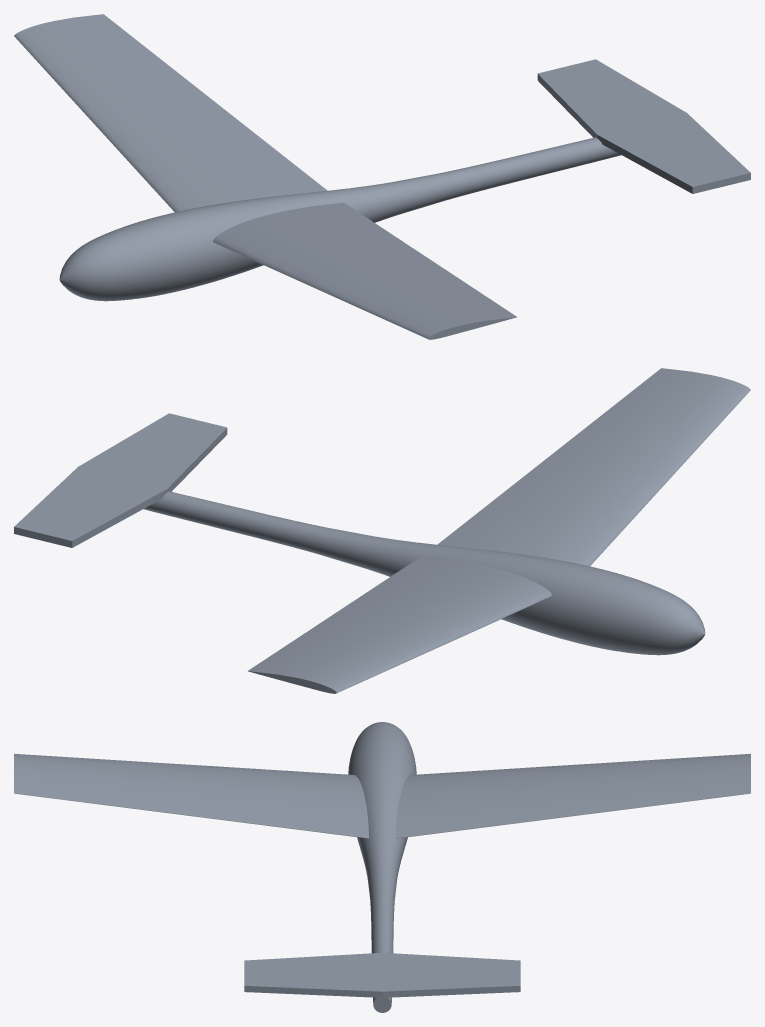
The model's file is step-3.glb.
3 views of the same model, one above another, from view 1: azimuth 30°, elevation 25°; view 2: azimuth 150°, elevation 25°; view 3: azimuth 270°, elevation 25° (orthographic). The views are drawn at different scales.
Visible parts, largest first — view 1: face_1b6819f219a328fa14c4, face_707ec686bf07544b4c62, face_d33251d08d022978a54a, face_a72114501f3798bdbff0, face_57a8f3beee3c2707dafd; view 2: face_d33251d08d022978a54a, face_707ec686bf07544b4c62, face_1b6819f219a328fa14c4, face_a72114501f3798bdbff0, face_c5007920976ef4ee8372; view 3: face_d33251d08d022978a54a, face_1b6819f219a328fa14c4, face_a72114501f3798bdbff0, face_707ec686bf07544b4c62, face_1e3c1181cd190d31b921, face_0a8bdc335e0705b1398c.
Boxes of the visible parts, bbox=[...] form: face_1b6819f219a328fa14c4: bbox=[14, 14, 327, 212]; face_707ec686bf07544b4c62: bbox=[59, 137, 621, 301]; face_d33251d08d022978a54a: bbox=[213, 202, 516, 338]; face_a72114501f3798bdbff0: bbox=[538, 59, 750, 186]; face_57a8f3beee3c2707dafd: bbox=[597, 135, 692, 193]; face_d33251d08d022978a54a: bbox=[437, 368, 750, 566]; face_707ec686bf07544b4c62: bbox=[143, 491, 705, 655]; face_1b6819f219a328fa14c4: bbox=[248, 556, 551, 692]; face_a72114501f3798bdbff0: bbox=[14, 413, 226, 540]; face_c5007920976ef4ee8372: bbox=[72, 489, 167, 547]; face_d33251d08d022978a54a: bbox=[14, 753, 368, 838]; face_1b6819f219a328fa14c4: bbox=[396, 753, 750, 838]; face_a72114501f3798bdbff0: bbox=[244, 952, 520, 991]; face_707ec686bf07544b4c62: bbox=[348, 722, 416, 1002]; face_1e3c1181cd190d31b921: bbox=[244, 986, 382, 997]; face_0a8bdc335e0705b1398c: bbox=[382, 986, 520, 997].
Bounding box in the file's own units: 0.14 × 0.0201 × 0.16.
